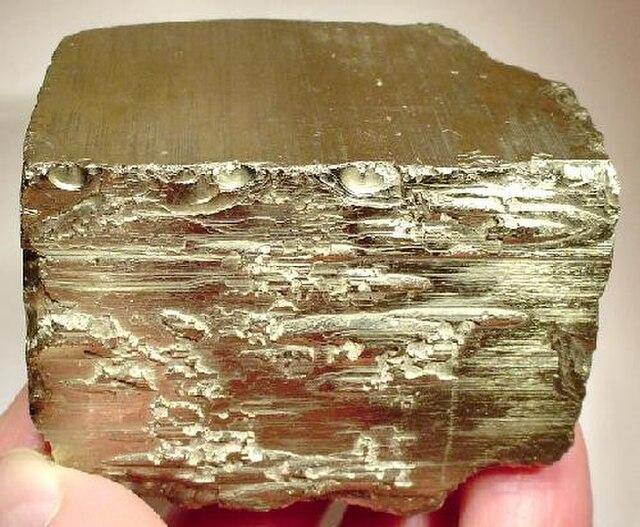pyrite: (15, 19, 624, 515)
